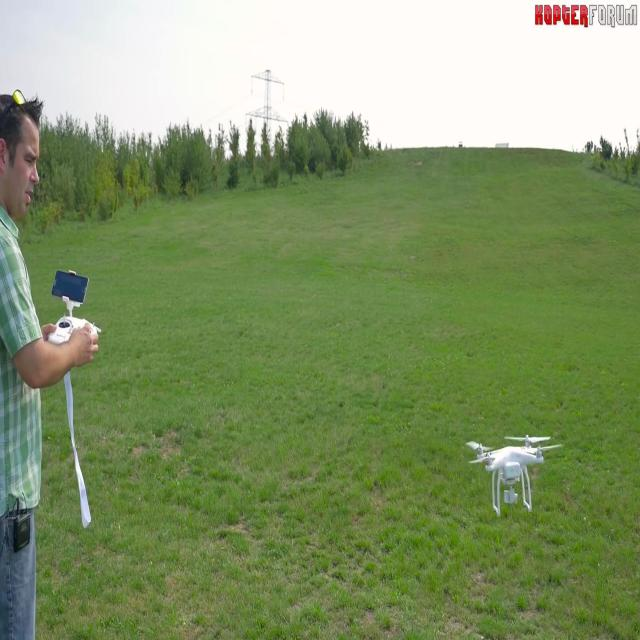drone: (465, 431, 562, 515)
